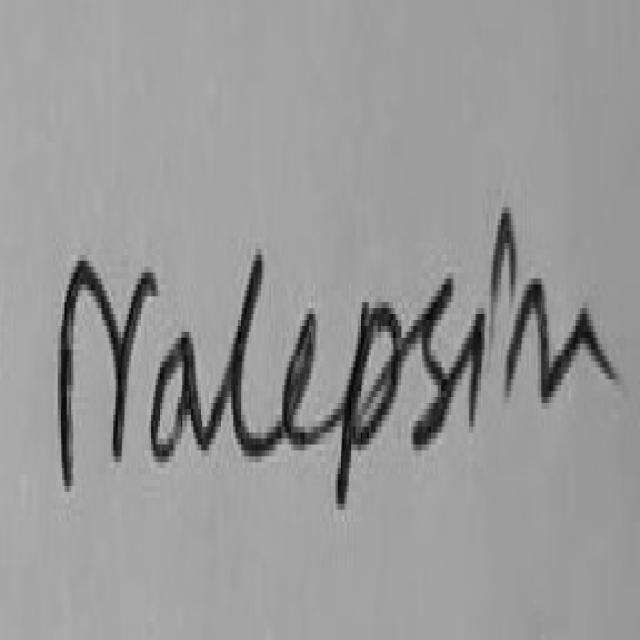N: (58, 261, 158, 483)
a: (153, 332, 211, 459)
e: (282, 314, 339, 456)
i: (493, 207, 518, 329), (473, 314, 486, 424)
l: (208, 255, 284, 453)
n: (509, 284, 618, 400)
p: (338, 311, 400, 507)
s: (413, 279, 456, 447)
